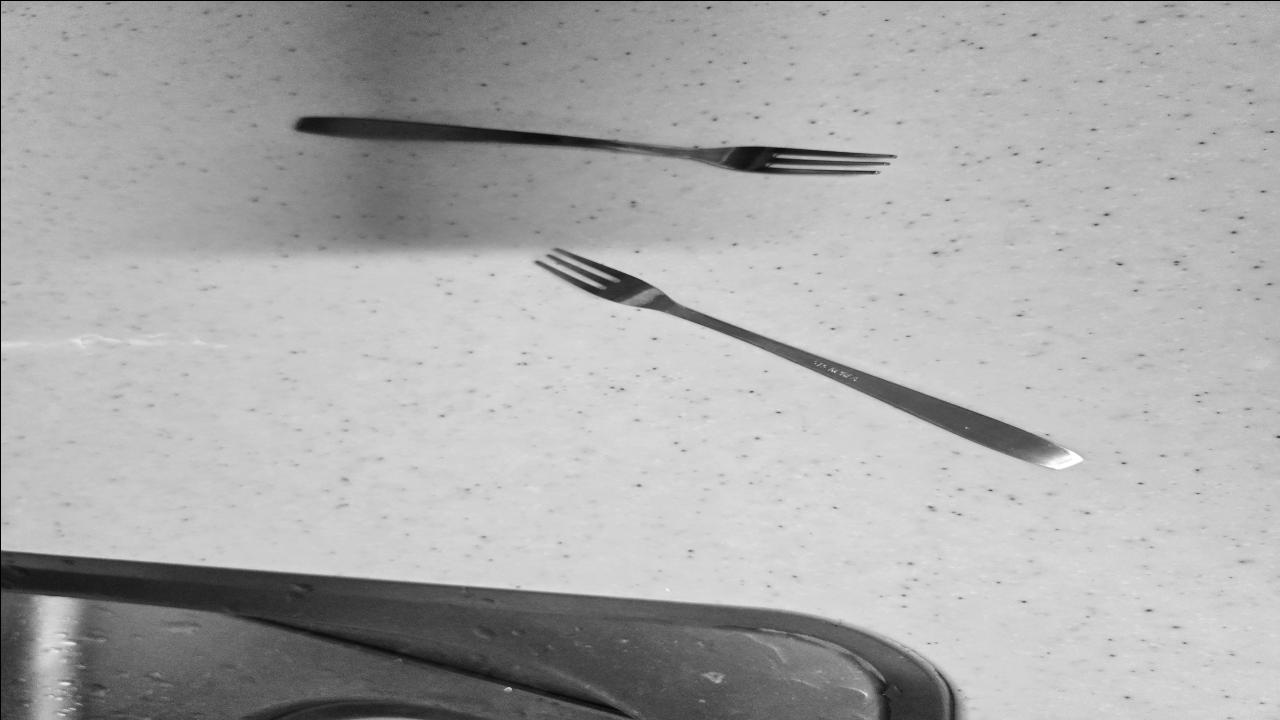fork: (509, 252, 1077, 465), (302, 114, 892, 180)
